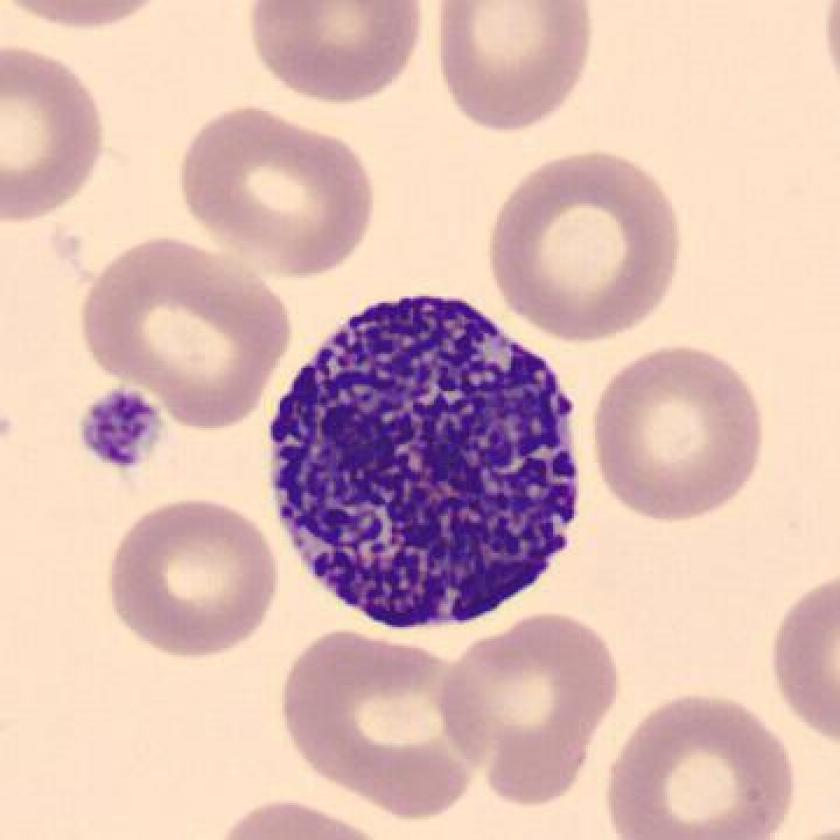basophil: (260, 286, 589, 637)
